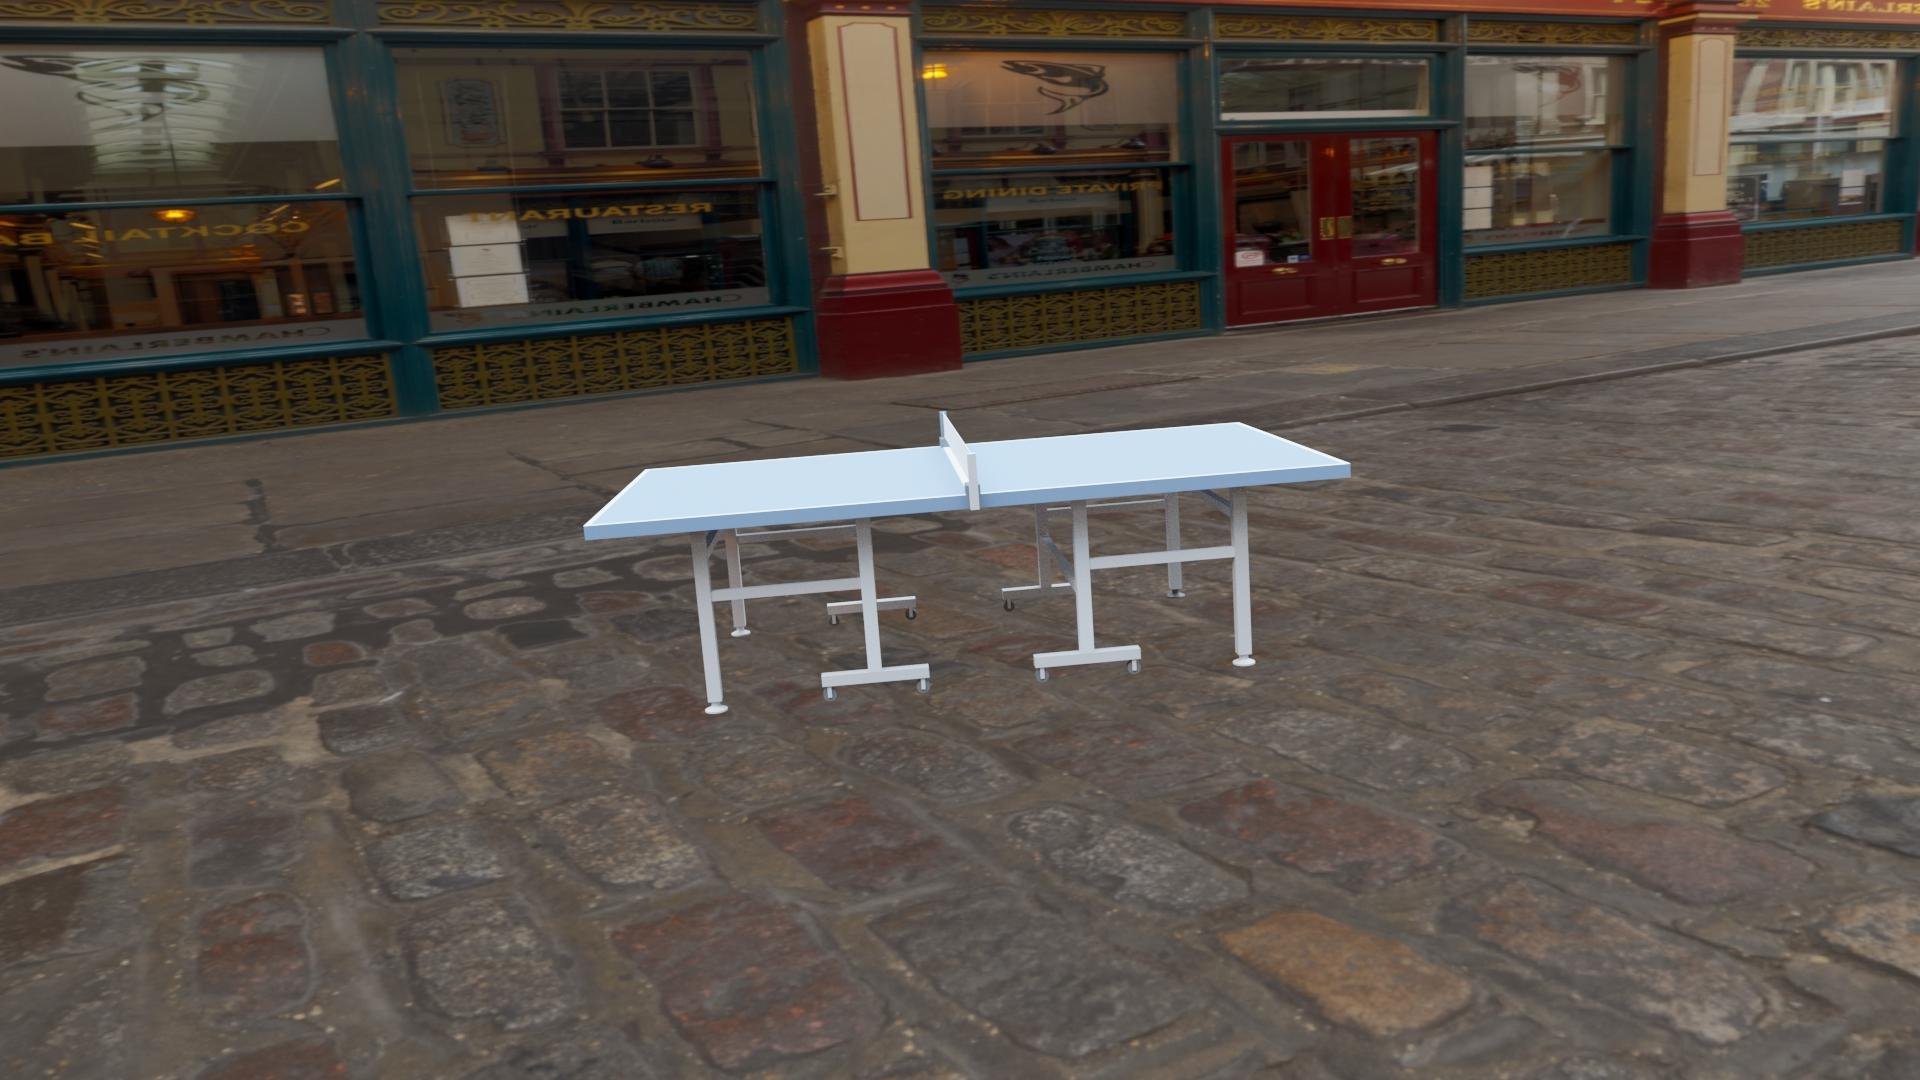table: (591, 423, 1342, 525)
